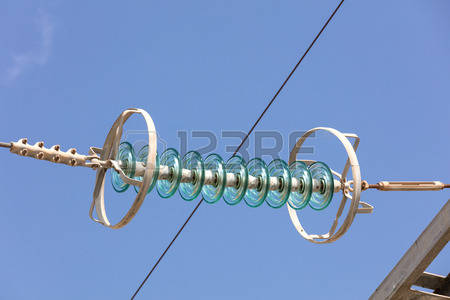isolator: (110, 142, 334, 211)
